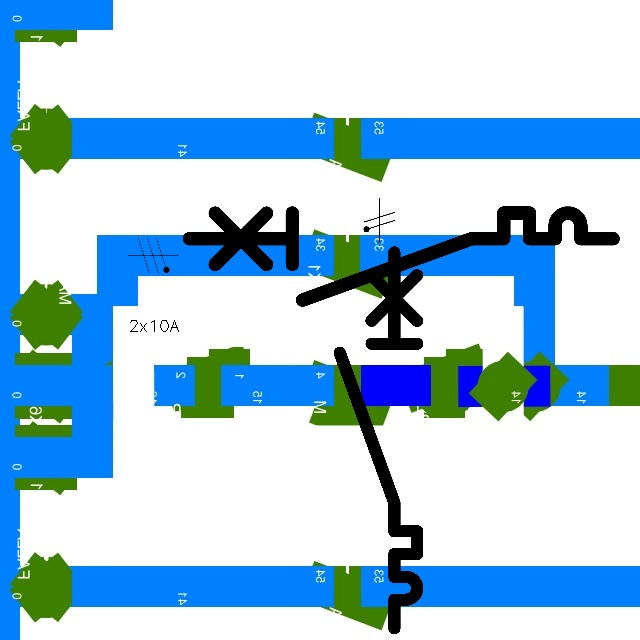interruptor_termomagnetico: (178, 202, 623, 311), (330, 242, 427, 637)
